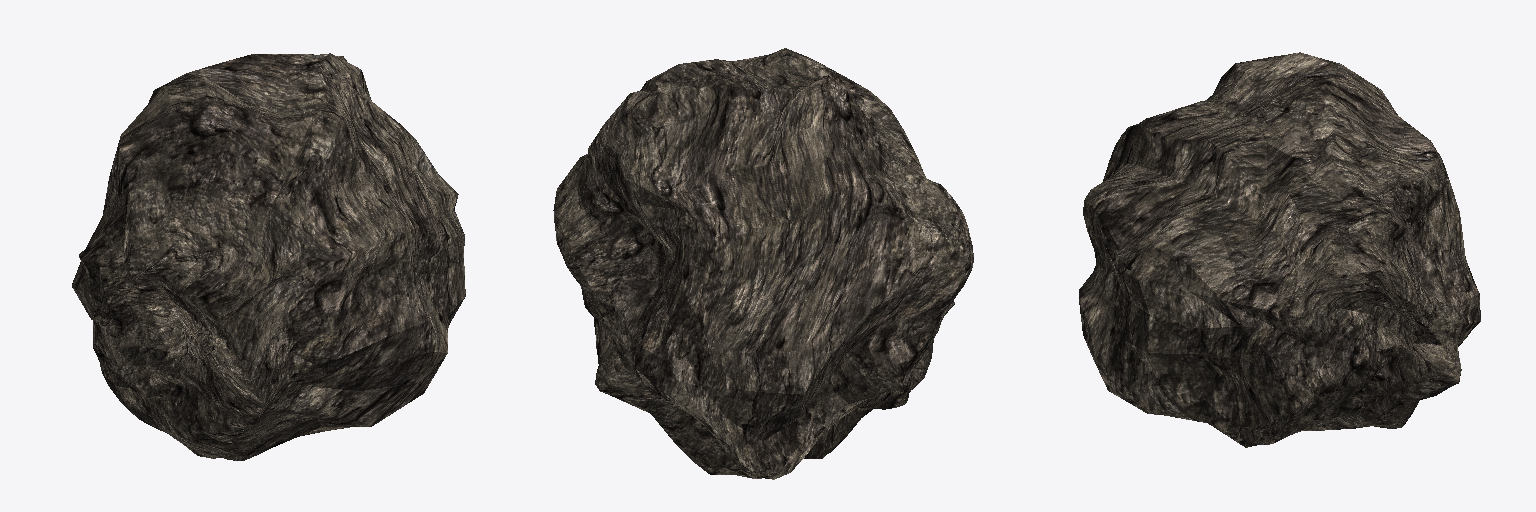
3 views of the same model, side by side, from view 1: azimuth 30°, elevation 25°; view 2: azimuth 150°, elevation 25°; view 3: azimuth 270°, elevation 25° (orthographic).
Parts seen in each view (by area): view 1: Sphere02; view 2: Sphere02; view 3: Sphere02.
Boxes of the visible parts, x1,y1,x2,y2 form: Sphere02: [72, 53, 465, 460]; Sphere02: [553, 48, 973, 479]; Sphere02: [1079, 52, 1480, 447].
Bounding box in the file's own units: 283 × 276 × 275.
Materials: 1 (1 with a texture image).